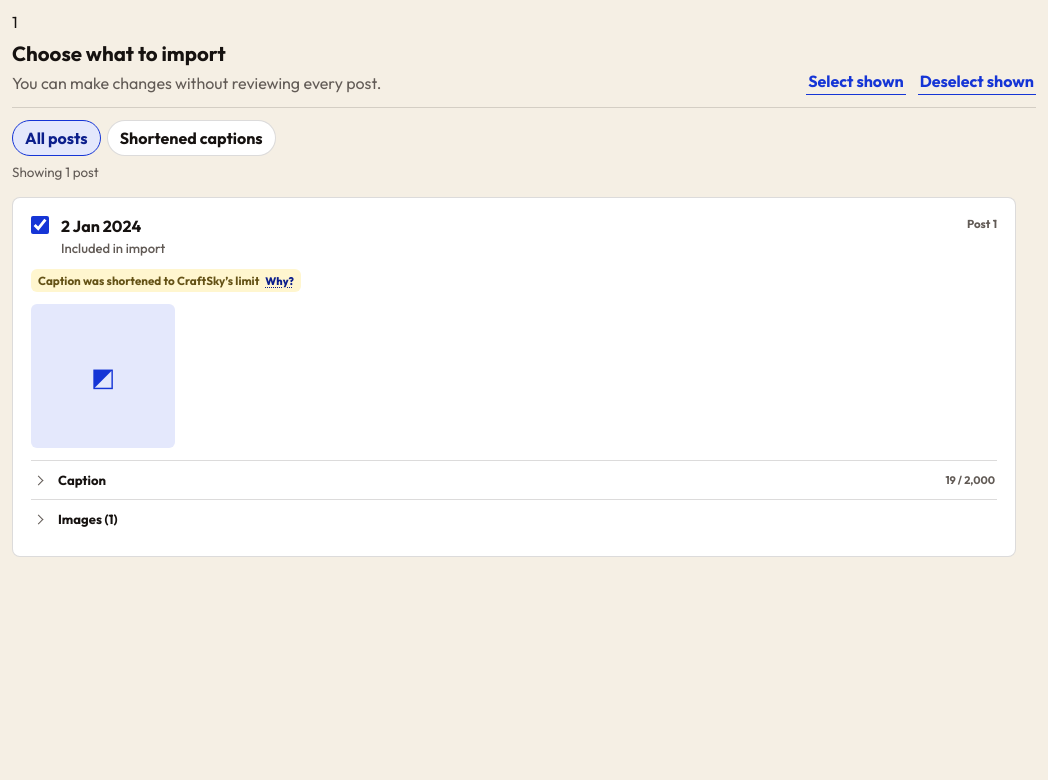
Test case: virtualized review lists (AT-004, AC-006) › keeps a post caption collapsed until the member opens it
Check: the text "Caption" is shown, box [58,472,106,488]
Click the heading "Caption 19 / 2,000" at (82, 480), box [58,472,995,488]
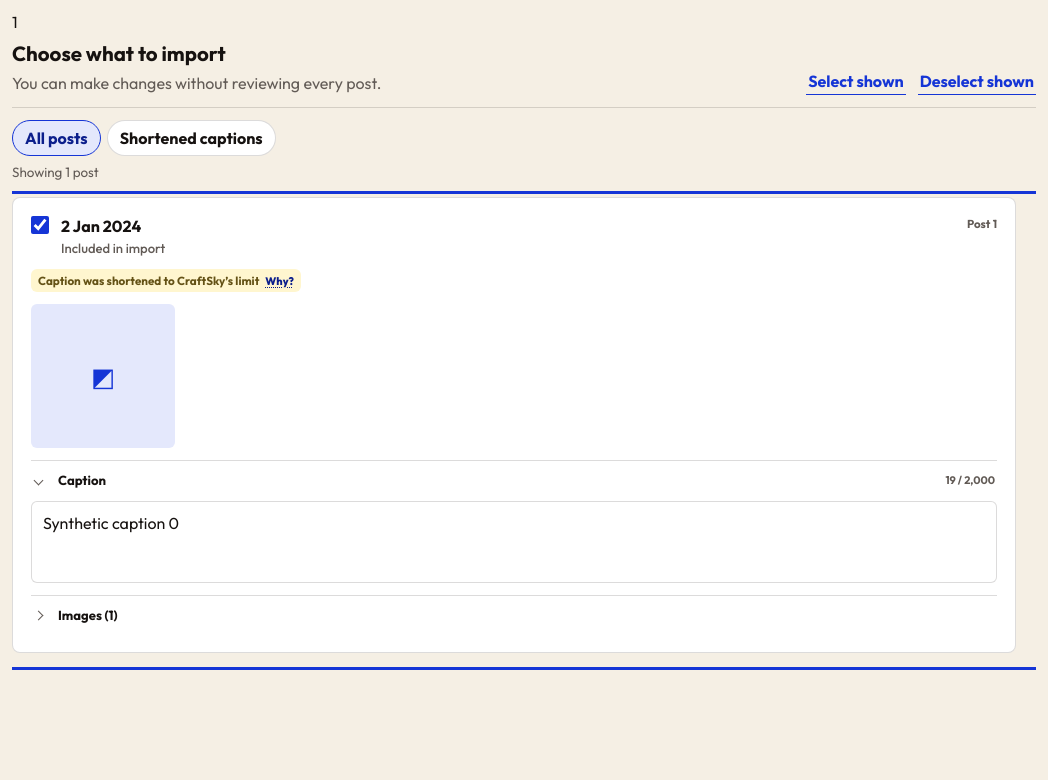
Check: the text box named "Caption" is shown, box [31,501,997,583]
